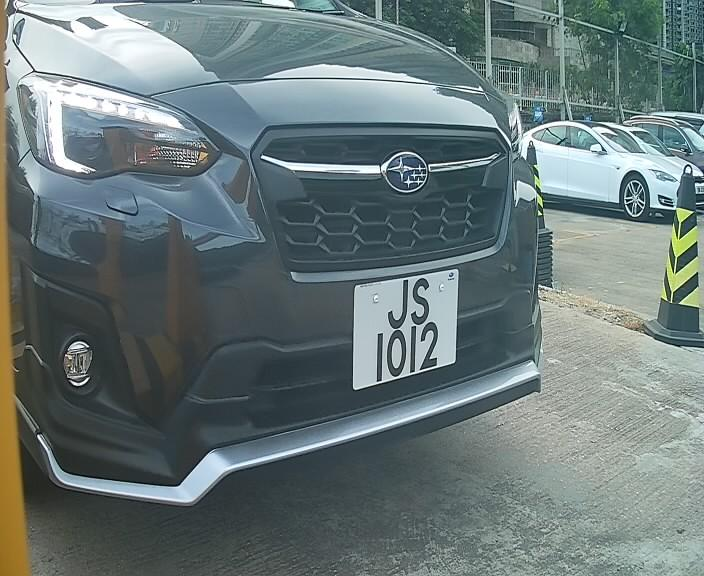Car: (4, 3, 569, 559)
License Plate: (346, 260, 469, 402)
